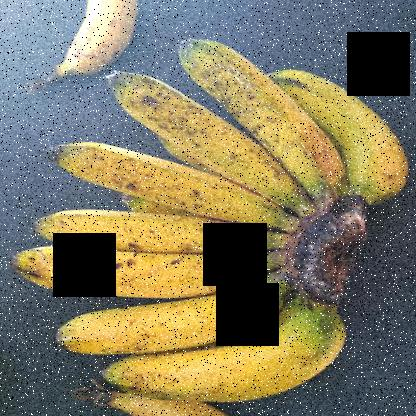ripe: (174, 34, 324, 196), (110, 67, 301, 189), (97, 318, 344, 412), (41, 279, 294, 357), (52, 140, 279, 226), (12, 205, 292, 264), (281, 67, 403, 195), (18, 249, 278, 302)
